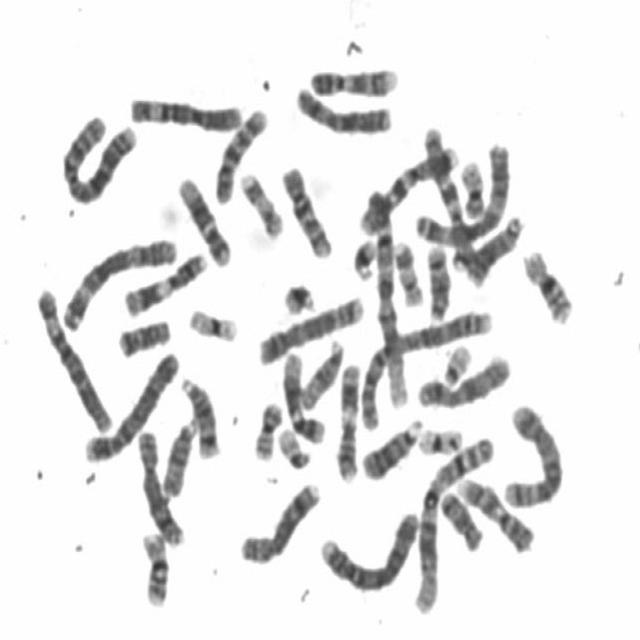A1: (409, 425, 498, 616), (360, 173, 412, 413)
A2: (356, 300, 498, 430), (56, 104, 141, 206)
A3: (56, 228, 181, 332), (412, 132, 516, 245)
B4: (79, 342, 183, 464), (314, 501, 422, 595)
B5: (252, 287, 368, 367), (497, 395, 566, 509)
C10: (210, 98, 270, 206), (276, 156, 336, 261)
C11: (118, 242, 210, 318), (332, 354, 364, 483)
C12: (172, 166, 234, 269), (278, 344, 328, 446)
C6: (30, 279, 115, 433), (124, 85, 245, 134)
C7: (352, 135, 462, 236), (418, 117, 484, 278)
C8: (234, 472, 324, 567), (132, 421, 188, 548)
C9: (453, 468, 538, 555), (304, 58, 402, 100)
D13: (462, 206, 527, 287), (356, 409, 426, 483)
D14: (175, 368, 222, 460), (422, 236, 454, 323)
D15: (296, 330, 348, 410), (156, 411, 202, 498)
E16: (518, 240, 577, 327), (136, 522, 173, 608)
E17: (234, 163, 286, 241), (389, 232, 426, 308)
E18: (434, 484, 488, 553), (112, 310, 174, 360)
F19: (182, 298, 242, 345), (414, 418, 466, 456)
F20: (248, 392, 286, 462), (456, 151, 488, 220)
G21: (278, 272, 320, 316), (348, 228, 380, 282)
G22: (436, 334, 476, 388), (272, 420, 314, 470)
X: (412, 345, 514, 412), (290, 78, 396, 138)
